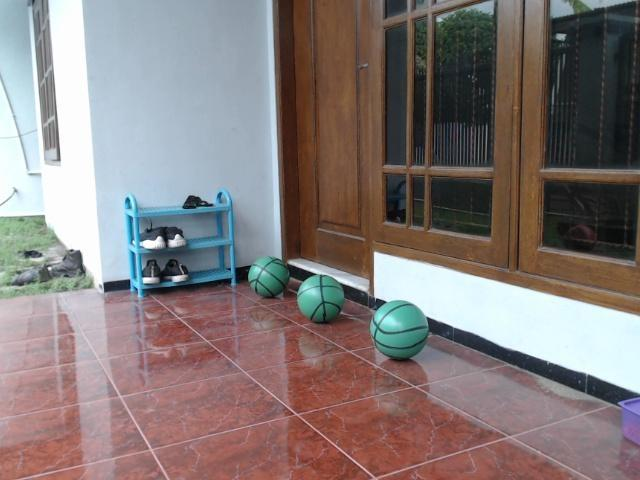Sports-Ball: (370, 297, 428, 362), (294, 271, 347, 328), (242, 249, 291, 306)
